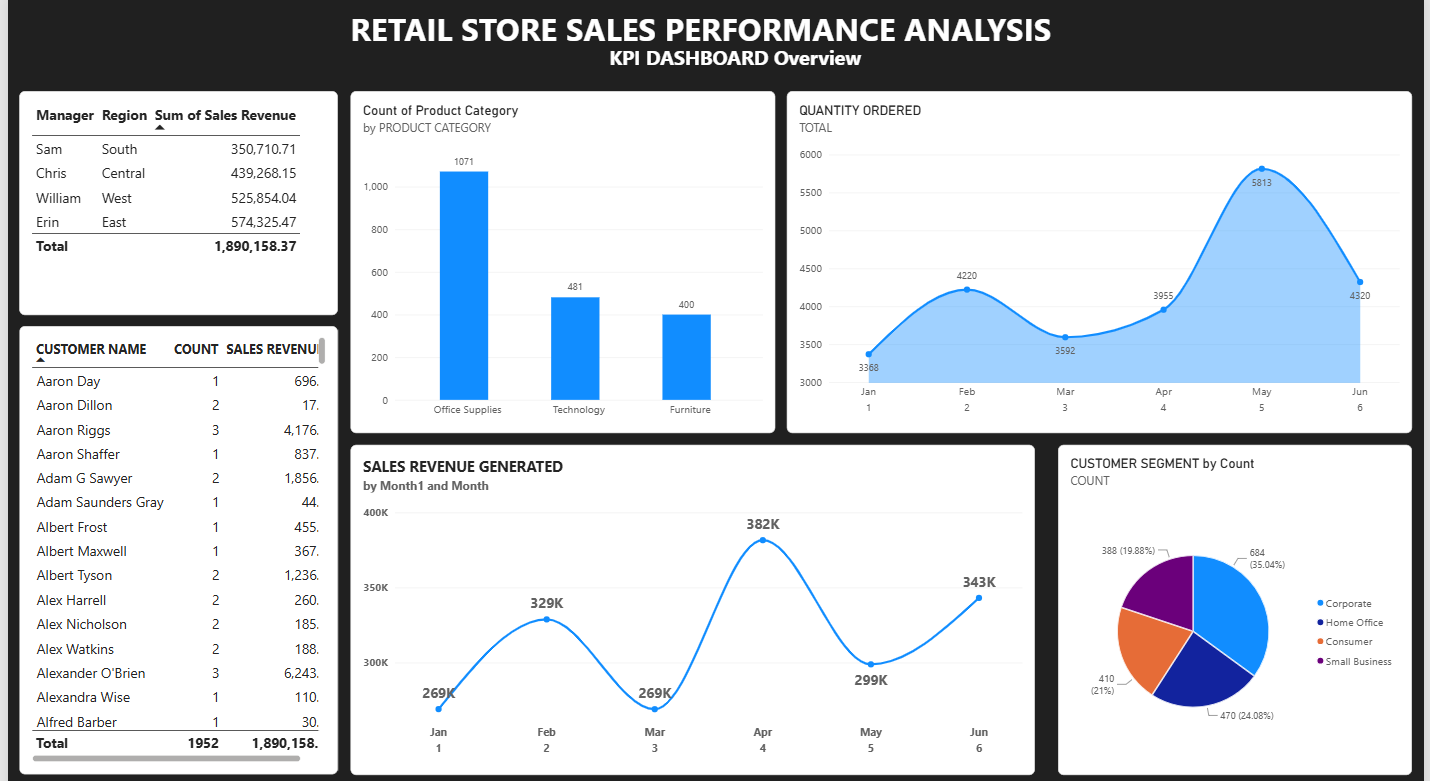

What the dashboard file says about the page in this screenshot:
{"tool":"powerbi","page":{"name":"Page 2","canvas":[1920,1080],"ordinal":1},"visuals":[{"type":"clusteredColumnChart","fields":{"Category":["Orders.Product Category"],"Y":["CountNonNull(Orders.Product Category)"]},"box":[464,128,576,464],"z":0},{"type":"lineChart","fields":{"Category":["Orders.Month1","Orders.Month"],"Y":["Sum(Orders.Sales Revenue)"]},"box":[464,608,928,448],"z":1000},{"type":"areaChart","title":"QUANTITY ORDERED","fields":{"Category":["Orders.Month1","Orders.Month"],"Y":["Sum(Orders.Quantity ordered new)"]},"box":[1056,128,848,464],"z":2000},{"type":"tableEx","fields":{"Values":["Users.Manager","Orders.Region","Sum(Orders.Sales Revenue)"]},"box":[16,128,432,304],"z":3000},{"type":"tableEx","fields":{"Values":["Orders.Customer Name","CountNonNull(Orders.Customer Name)","Sum(Orders.Sales Revenue)"]},"box":[16,448,432,608],"z":4000},{"type":"pieChart","fields":{"Category":["Orders.Customer Segment"],"Y":["CountNonNull(Orders.Customer Segment)"]},"box":[1424,608,480,448],"z":5000},{"type":"textbox","box":[816,64,496,80],"z":5750},{"type":"textbox","box":[464,16,960,80],"z":6000}]}

Visuals, with their boxes in screenshot pixels (x1, y1, x2, y2), scaled from the page's 1920x1080 canvas onto the 1430x781 screenshot:
clusteredColumnChart - Orders.Product Category x CountNonNull(Orders.Product Category): <region>346, 93, 775, 428</region>
lineChart - Orders.Month1 x Orders.Month: <region>346, 440, 1037, 764</region>
"QUANTITY ORDERED" areaChart: <region>786, 93, 1418, 428</region>
tableEx - Users.Manager x Orders.Region: <region>12, 93, 334, 312</region>
tableEx - Orders.Customer Name x CountNonNull(Orders.Customer Name): <region>12, 324, 334, 764</region>
pieChart - Orders.Customer Segment x CountNonNull(Orders.Customer Segment): <region>1061, 440, 1418, 764</region>
textbox: <region>608, 46, 977, 104</region>
textbox: <region>346, 12, 1061, 69</region>
